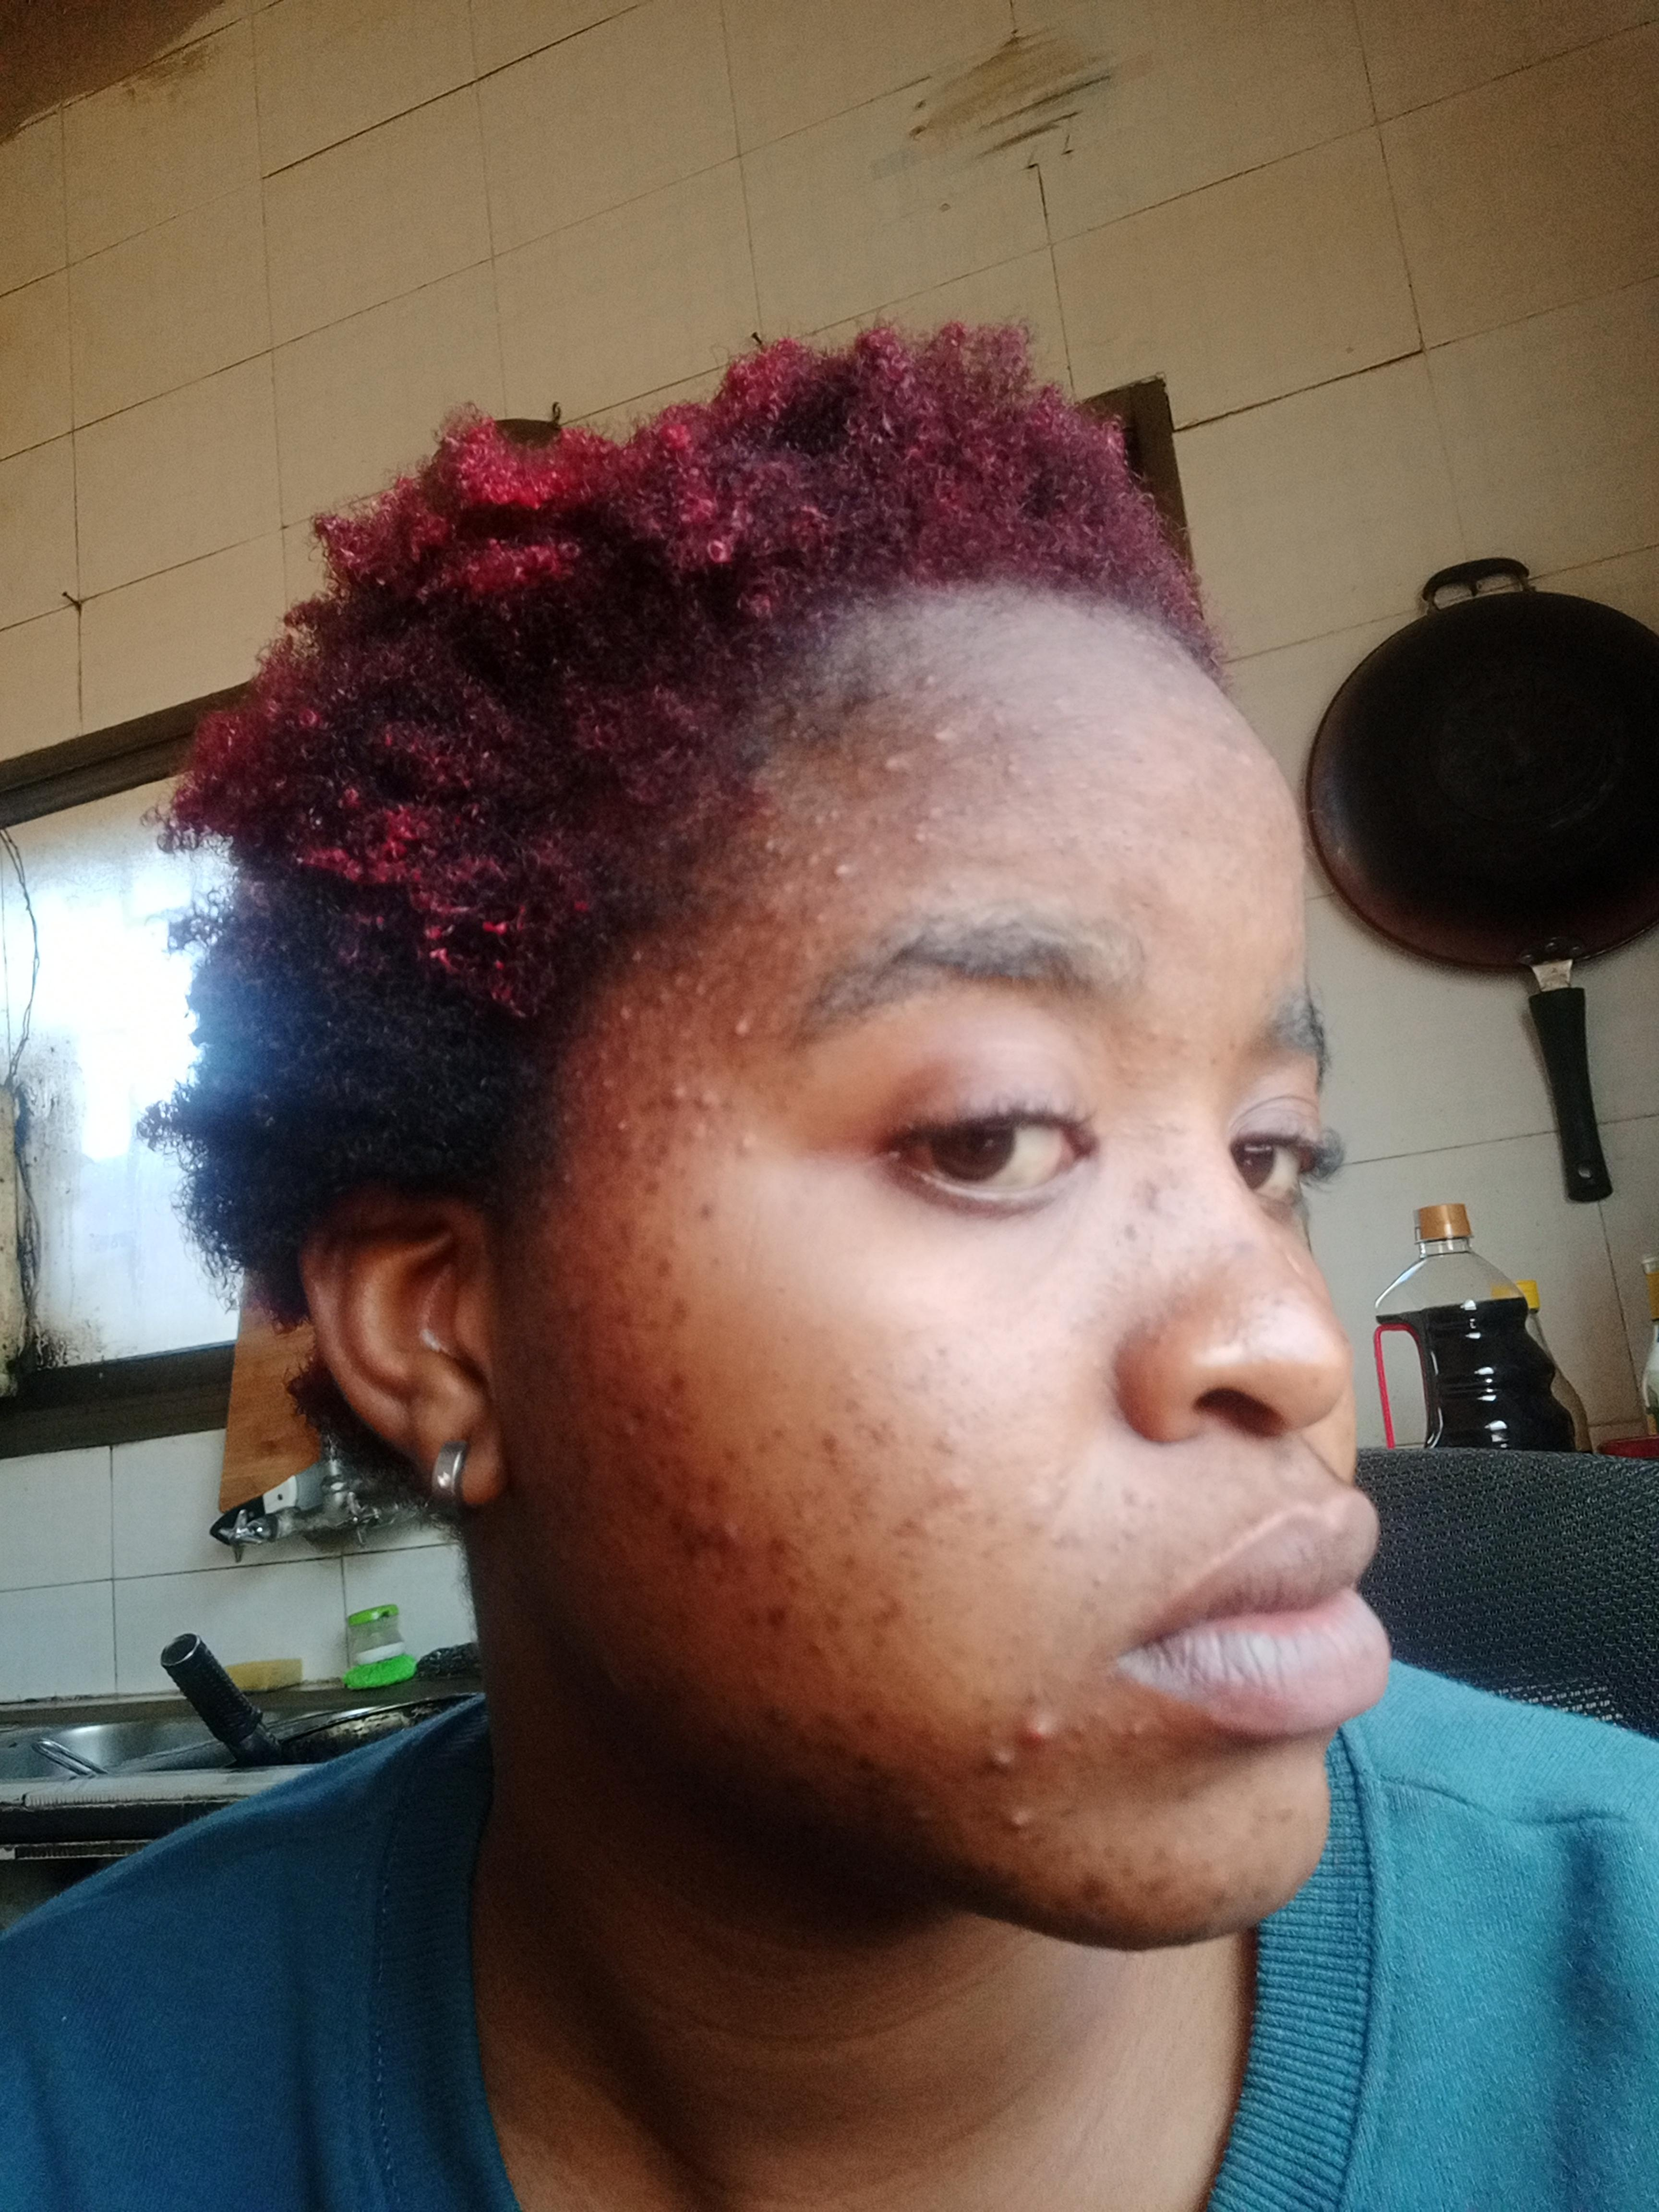Acne: (667, 1512, 746, 1562), (612, 1134, 671, 1193), (591, 1043, 629, 1132), (652, 1078, 728, 1115), (753, 892, 829, 925), (800, 845, 859, 887), (1023, 1517, 1087, 1552), (1126, 1170, 1171, 1219), (863, 1594, 901, 1651), (1018, 1702, 1065, 1747), (974, 1737, 1018, 1777), (784, 1482, 828, 1522), (997, 1799, 1040, 1838), (1251, 1799, 1298, 1834), (615, 1400, 650, 1444), (774, 934, 814, 968), (721, 1008, 755, 1049), (931, 1416, 962, 1458), (885, 1514, 934, 1540), (868, 1414, 903, 1451), (1136, 1867, 1175, 1900), (1075, 1871, 1107, 1911), (938, 1468, 979, 1498), (608, 1216, 641, 1252), (953, 1508, 1002, 1533), (765, 1533, 796, 1569), (544, 1167, 579, 1198), (762, 1698, 796, 1730), (666, 1291, 695, 1327), (659, 1406, 692, 1437), (756, 1423, 788, 1456), (924, 716, 958, 745), (687, 1197, 721, 1224), (673, 968, 709, 995), (995, 751, 1025, 782), (612, 1303, 641, 1334), (908, 817, 934, 852), (880, 751, 913, 777), (702, 1470, 732, 1498), (1201, 1883, 1230, 1911), (849, 1749, 880, 1775), (803, 805, 842, 826), (767, 1599, 793, 1629), (1115, 1486, 1143, 1512), (620, 944, 648, 970), (819, 1426, 843, 1456), (660, 1369, 690, 1393), (817, 1609, 847, 1634), (859, 1705, 884, 1735), (1117, 1217, 1140, 1249), (681, 1115, 708, 1141), (615, 993, 638, 1022), (915, 665, 939, 691), (652, 1254, 678, 1278), (859, 806, 889, 827), (842, 1547, 864, 1573), (1152, 1838, 1175, 1864), (812, 1710, 842, 1730), (1042, 691, 1072, 711), (734, 1136, 755, 1162), (1122, 1721, 1147, 1742), (800, 1635, 828, 1653), (1068, 1723, 1093, 1742), (720, 1444, 744, 1461), (843, 1393, 859, 1414), (566, 1292, 584, 1310), (1023, 726, 1046, 738)
